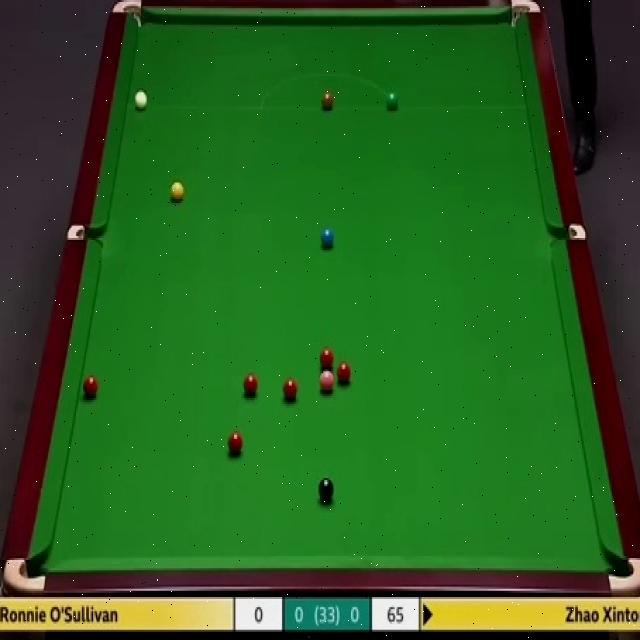black-ball: (318, 476, 336, 504)
blue-ball: (320, 226, 335, 250)
brown-ball: (321, 91, 333, 111)
green-ball: (386, 90, 399, 113)
pink-ball: (320, 369, 335, 393)
red-ball: (336, 361, 354, 388), (243, 372, 260, 400), (282, 377, 299, 405), (82, 374, 99, 401), (227, 430, 244, 456), (320, 346, 334, 372)
white-ball: (134, 88, 148, 112)
yellow-ball: (171, 180, 184, 201)
